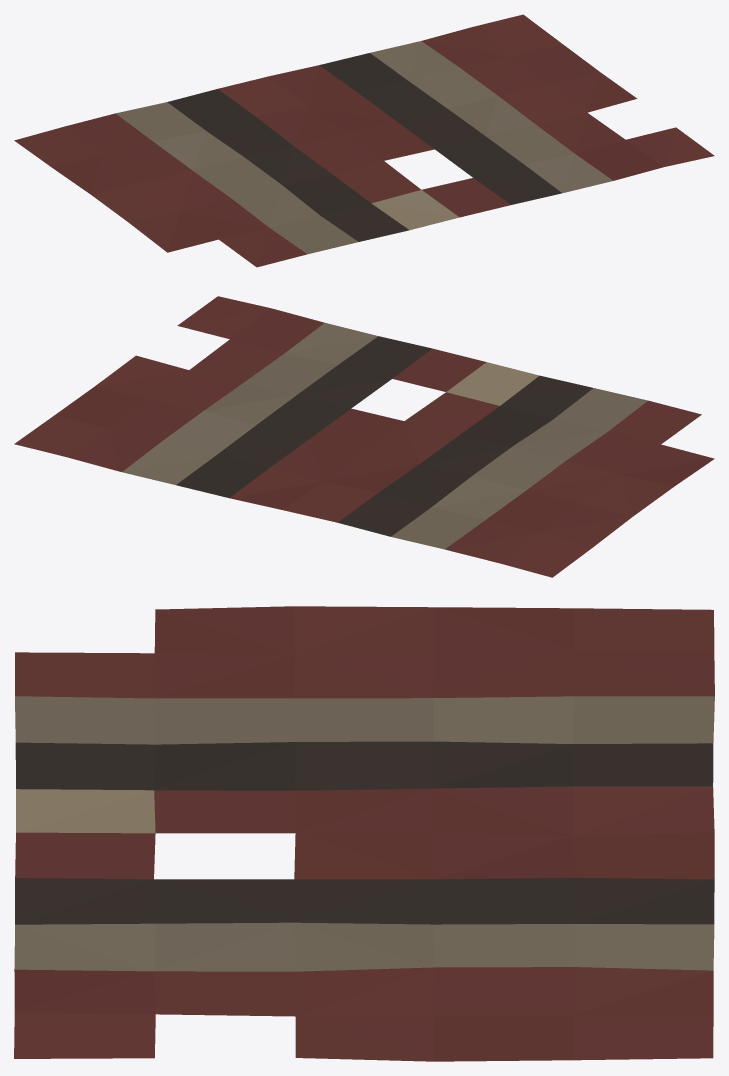
Rendered from tl_furn_rug_worn_v01.glb.
3 views of the same model, one above another, from view 1: azimuth 30°, elevation 25°; view 2: azimuth 150°, elevation 25°; view 3: azimuth 270°, elevation 25° (orthographic). The views are drawn at different scales.
Parts seen in each view (by area): view 1: tl_furn_rug_worn_v01; view 2: tl_furn_rug_worn_v01; view 3: tl_furn_rug_worn_v01.
Boxes of the visible parts, x1,y1,x2,y2 form: tl_furn_rug_worn_v01: [14, 14, 714, 267]; tl_furn_rug_worn_v01: [14, 296, 714, 577]; tl_furn_rug_worn_v01: [14, 606, 714, 1061].
Size of the model in its own units: 1.3 by 0.00579 by 0.8526.
